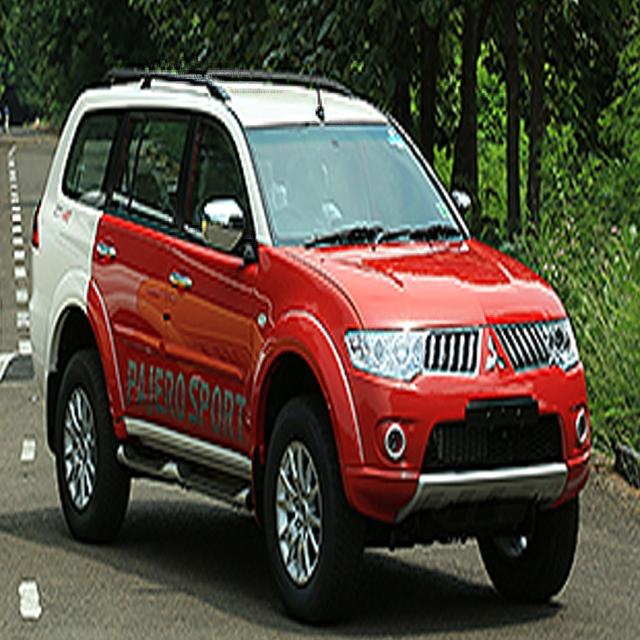light_vehicle: (25, 68, 592, 622)
